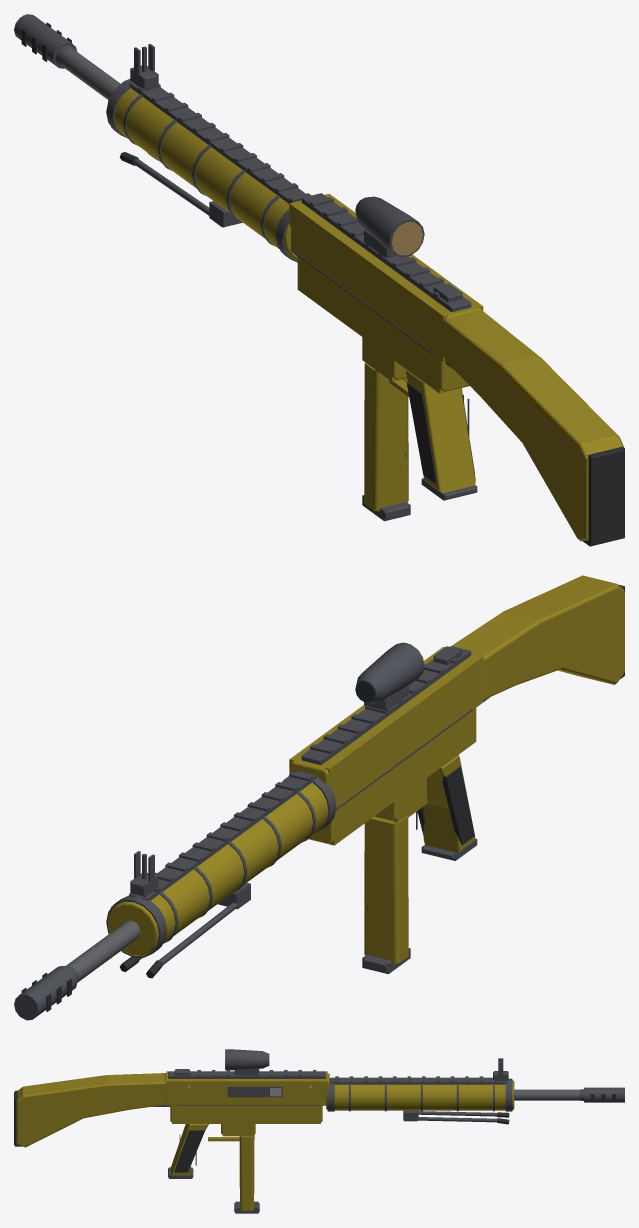
File: d_tally.glb
3 views of the same model, one above another, from view 1: azimuth 30°, elevation 25°; view 2: azimuth 150°, elevation 25°; view 3: azimuth 270°, elevation 25° (orthographic). The views are drawn at different scales.
Visible parts, largest first — view 1: L0, L1; view 2: L0, L1; view 3: L0, L1.
Boxes of the visible parts, x1=… form: L0: x1=14, y1=14, x2=624, y2=545; L1: x1=15, y1=15, x2=624, y2=546; L0: x1=14, y1=575, x2=624, y2=1020; L1: x1=14, y1=585, x2=624, y2=1020; L0: x1=14, y1=1049, x2=624, y2=1212; L1: x1=15, y1=1050, x2=624, y2=1213.
Bounding box in the file's own units: 0.0572 × 0.306 × 1.06.
